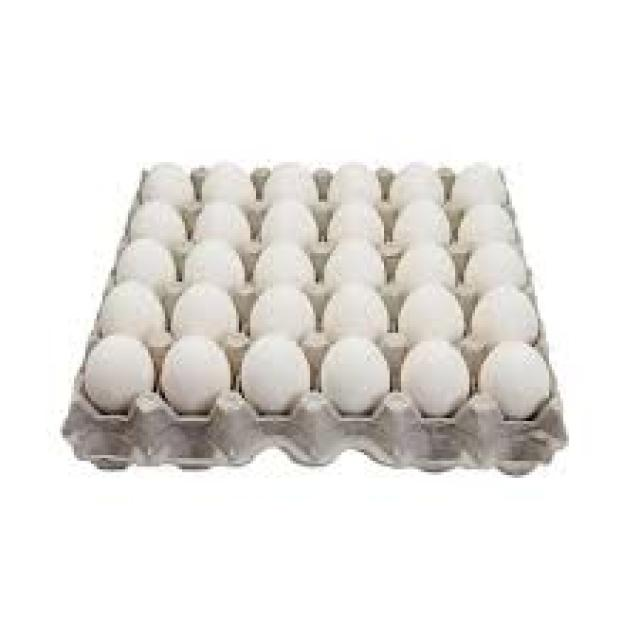White Egg: (477, 340, 558, 418), (81, 334, 160, 411), (160, 334, 229, 417), (236, 334, 311, 409), (317, 334, 386, 411), (402, 335, 467, 415), (466, 285, 540, 350), (174, 240, 254, 296), (464, 229, 536, 291), (91, 281, 168, 338), (321, 282, 392, 340), (395, 282, 465, 338), (176, 284, 242, 340), (388, 238, 458, 289), (248, 286, 316, 338), (455, 198, 523, 248), (125, 199, 193, 246), (324, 238, 390, 286), (112, 239, 180, 283), (256, 204, 318, 252), (260, 162, 320, 210), (255, 244, 324, 285), (200, 161, 260, 208), (392, 195, 449, 244), (329, 158, 386, 206), (330, 199, 382, 249), (450, 154, 503, 202), (390, 154, 449, 197), (198, 209, 256, 252), (142, 163, 192, 201)
